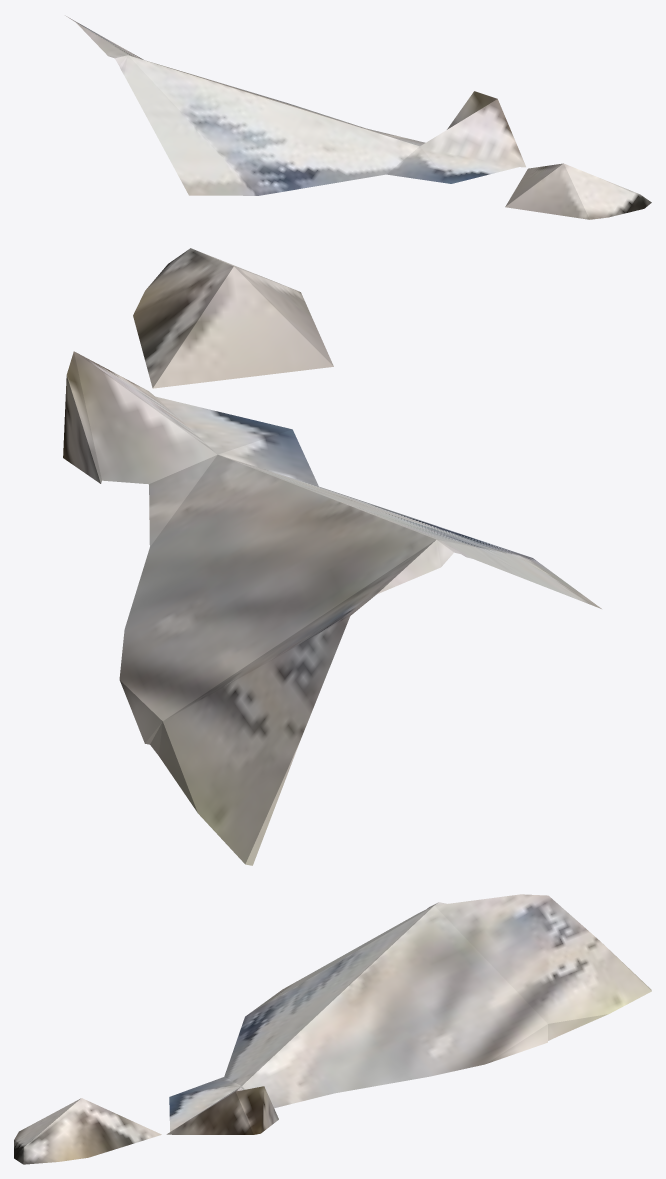
3 renders of one model, top to bottom at view 1: azimuth 30°, elevation 25°; view 2: azimuth 150°, elevation 25°; view 3: azimuth 270°, elevation 25°, orthographic. The views are drawn at different scales.
Size of the model in its own units: 0.5903 by 0.1498 by 0.9092.
1 material, 1 textured.
